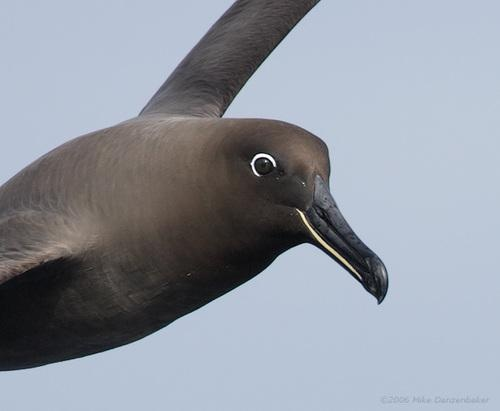bird: (3, 1, 389, 371)
